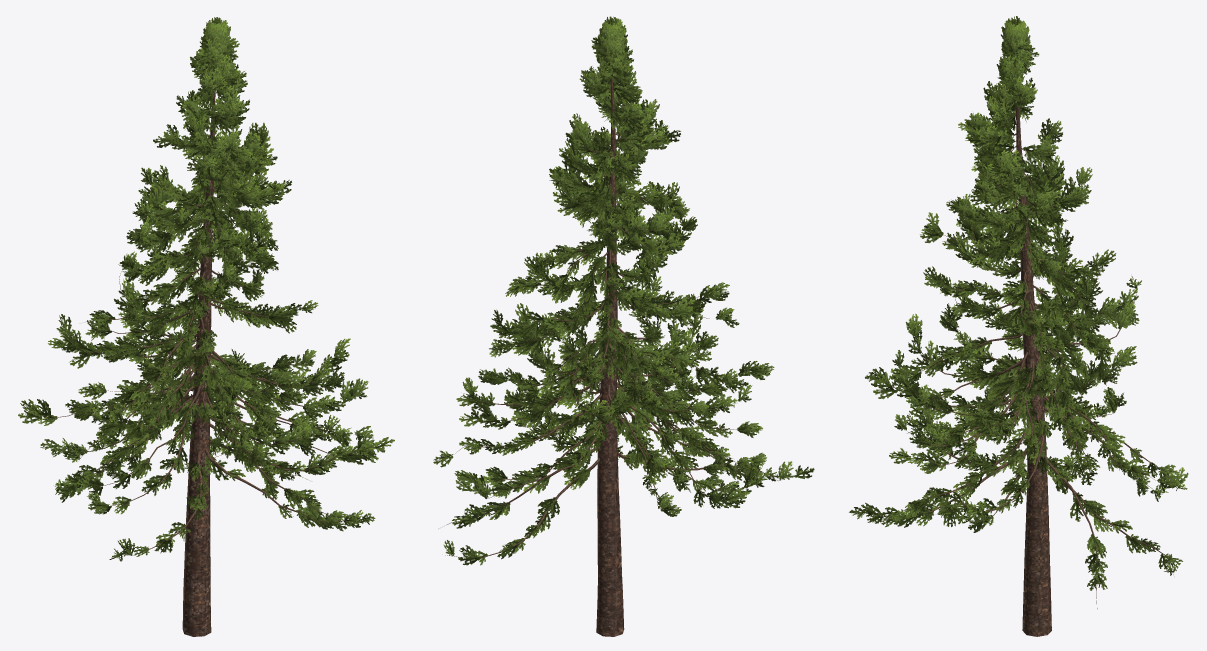
Rendered from Pine 01.glb.
3 views of the same model, side by side, from view 1: azimuth 30°, elevation 25°; view 2: azimuth 150°, elevation 25°; view 3: azimuth 270°, elevation 25° (orthographic). The views are drawn at different scales.
Parts seen in each view (by area): view 1: Tree; view 2: Tree; view 3: Tree.
Part boxes in pixels (bbox=[...]): Tree: bbox=[18, 17, 394, 636]; Tree: bbox=[433, 16, 814, 636]; Tree: bbox=[849, 16, 1188, 636].
Bounding box in the file's own units: 44.23 × 84.38 × 42.82.
2 materials, 2 textured.
